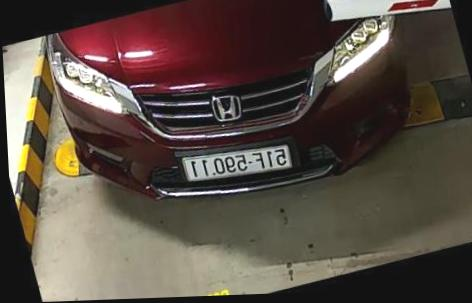License_Plate: (180, 138, 295, 189)
